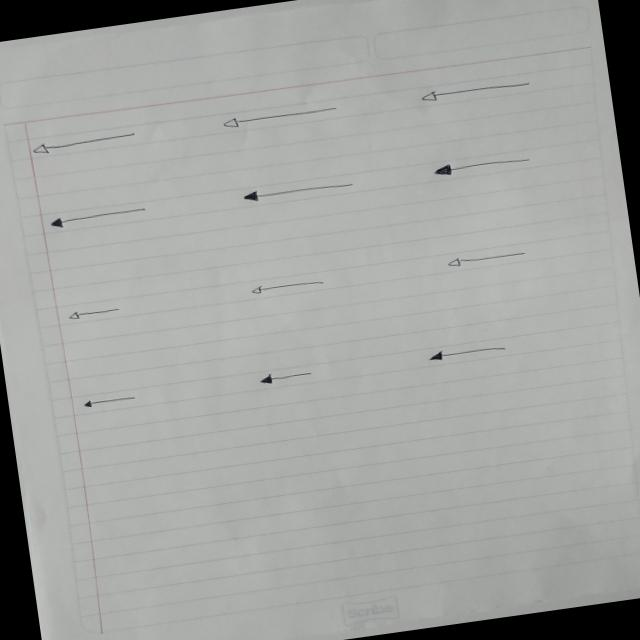arrow_line_left: (220, 101, 340, 132), (240, 174, 356, 206), (418, 74, 530, 104), (431, 150, 534, 180), (30, 130, 139, 158), (48, 203, 149, 231), (426, 340, 510, 366), (446, 246, 528, 272), (248, 276, 326, 298), (256, 367, 314, 387), (66, 304, 123, 324), (80, 392, 138, 410)
